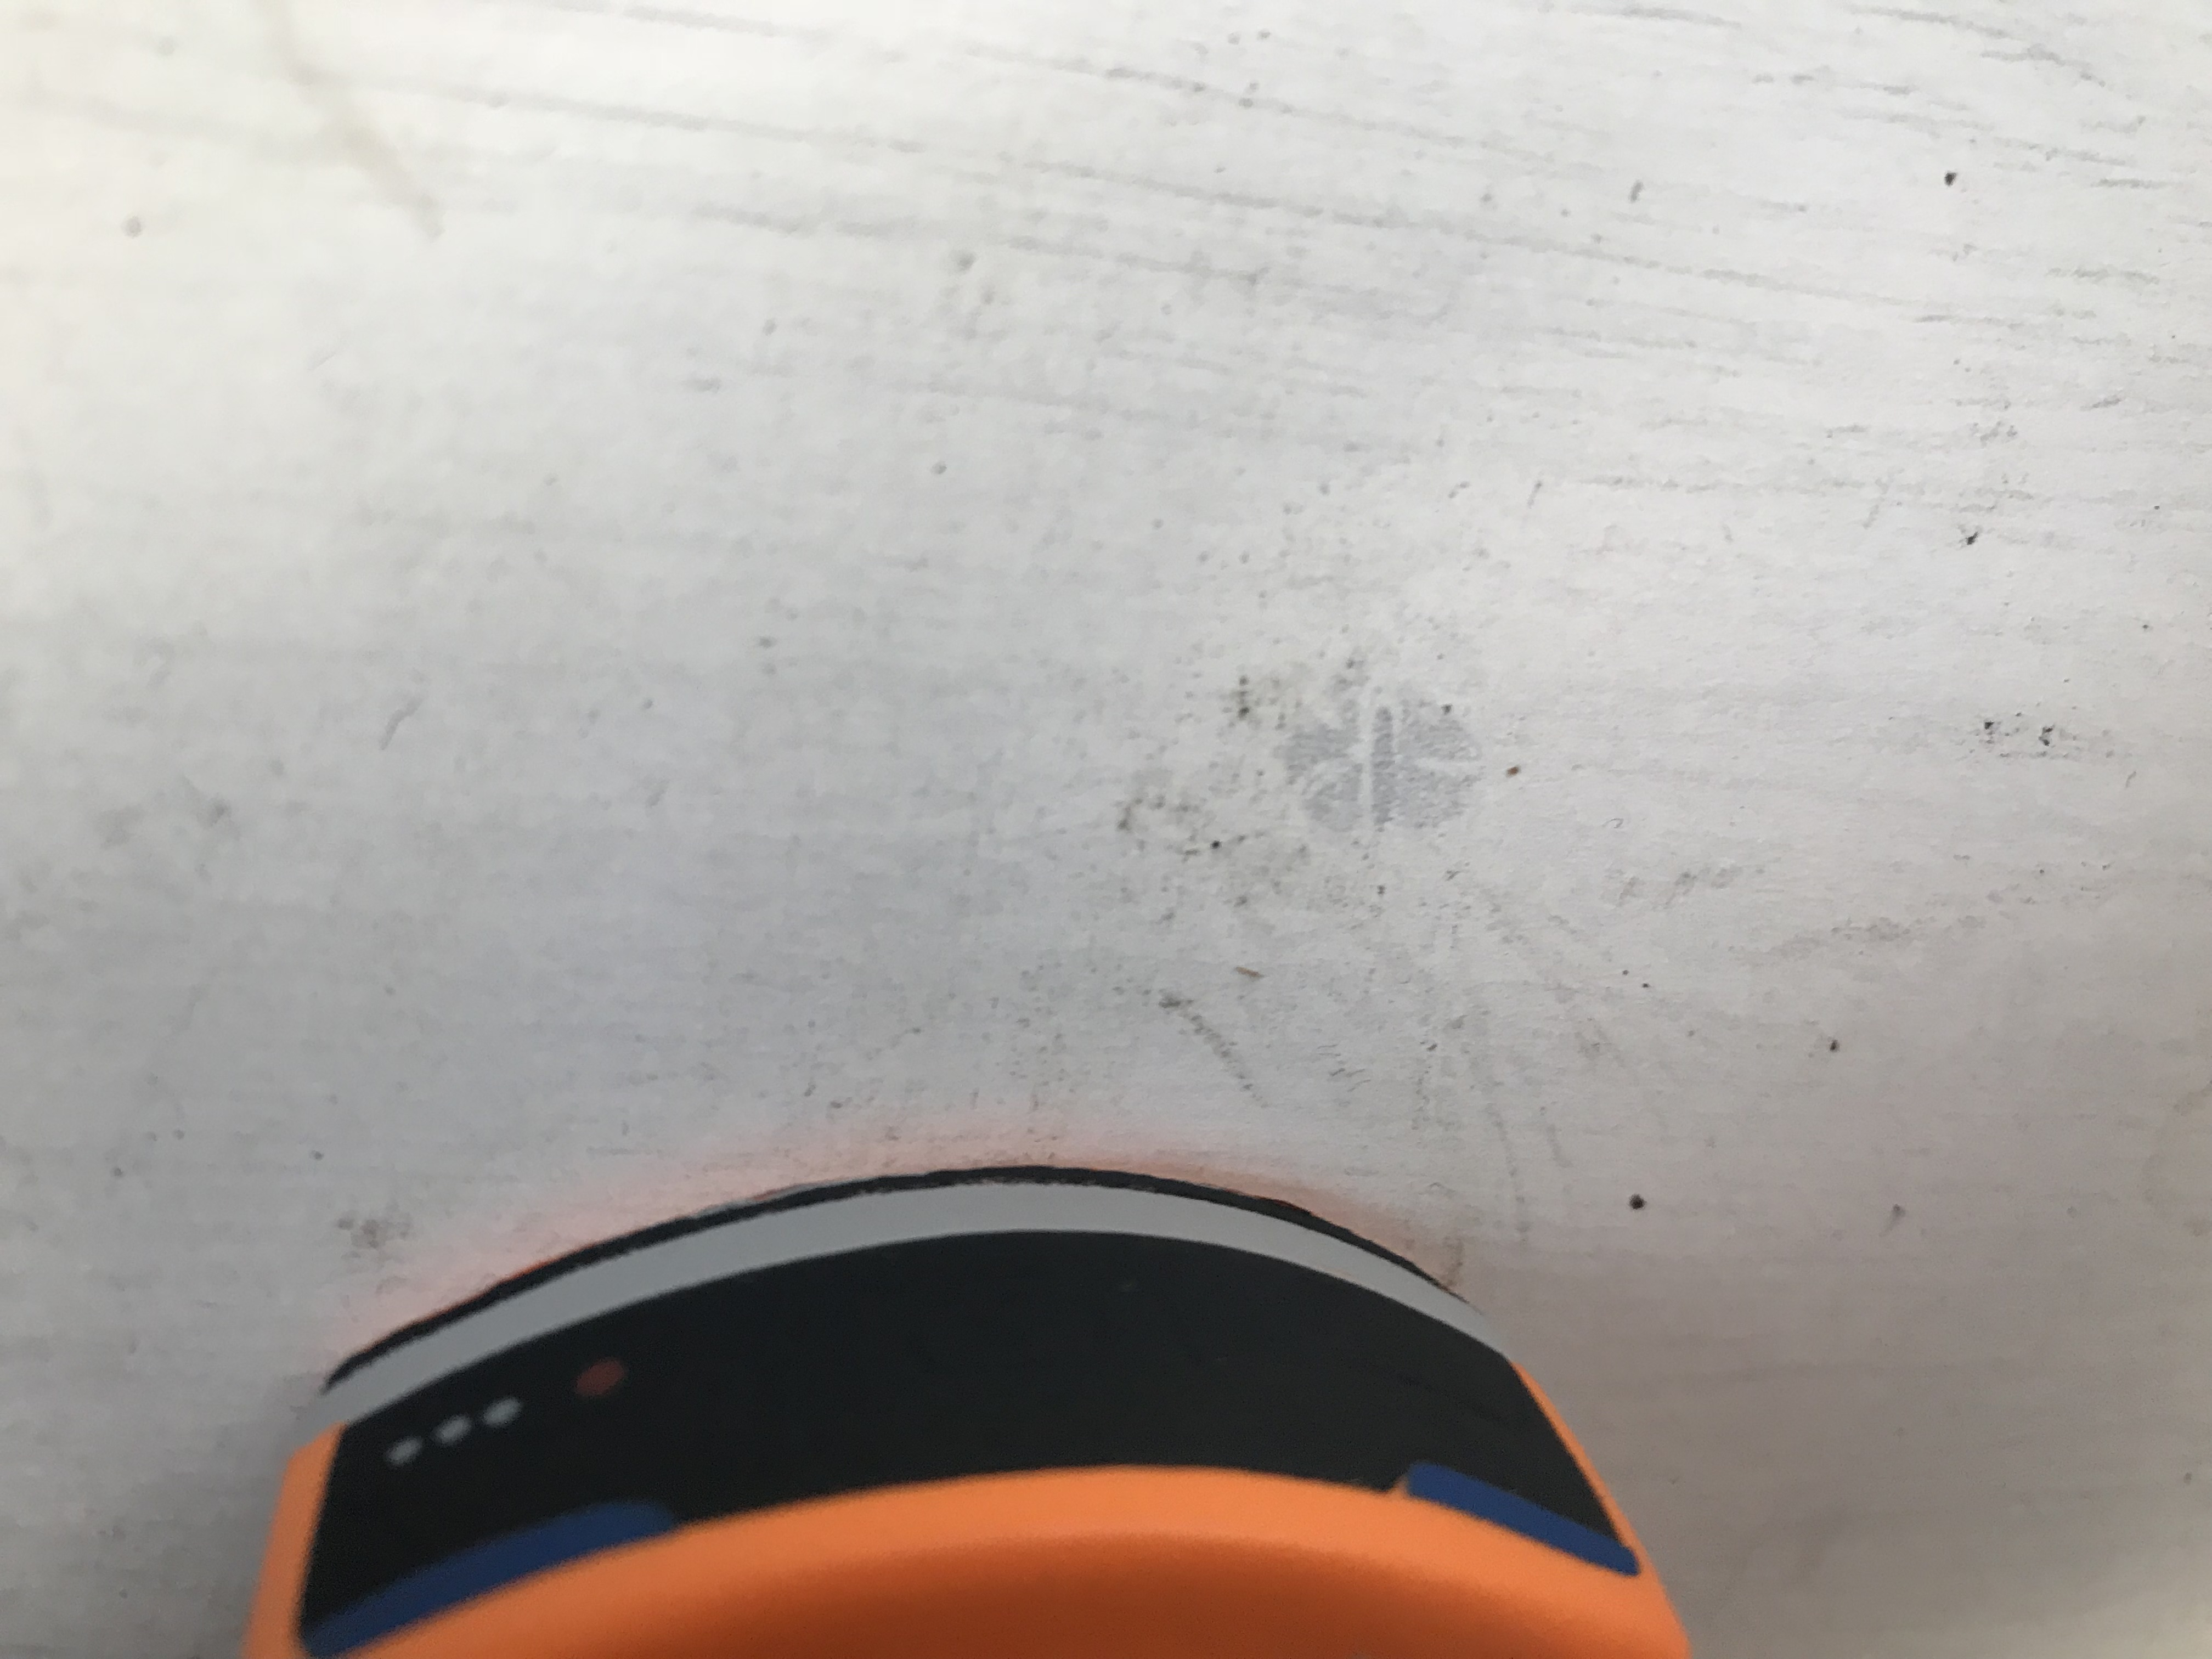amazon_bot: (226, 1145, 1759, 1659)
